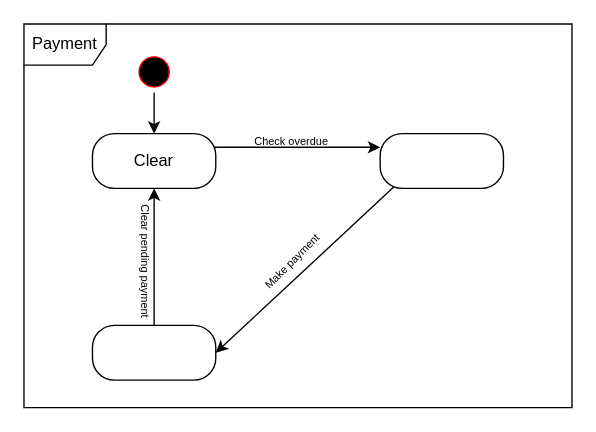
Image size: 596x432. Some labels were removed from this diagram. Each missing label, with the centre of its shape:
"Overdue" goes at (x=441, y=160).
"Pending" goes at (x=153, y=352).
